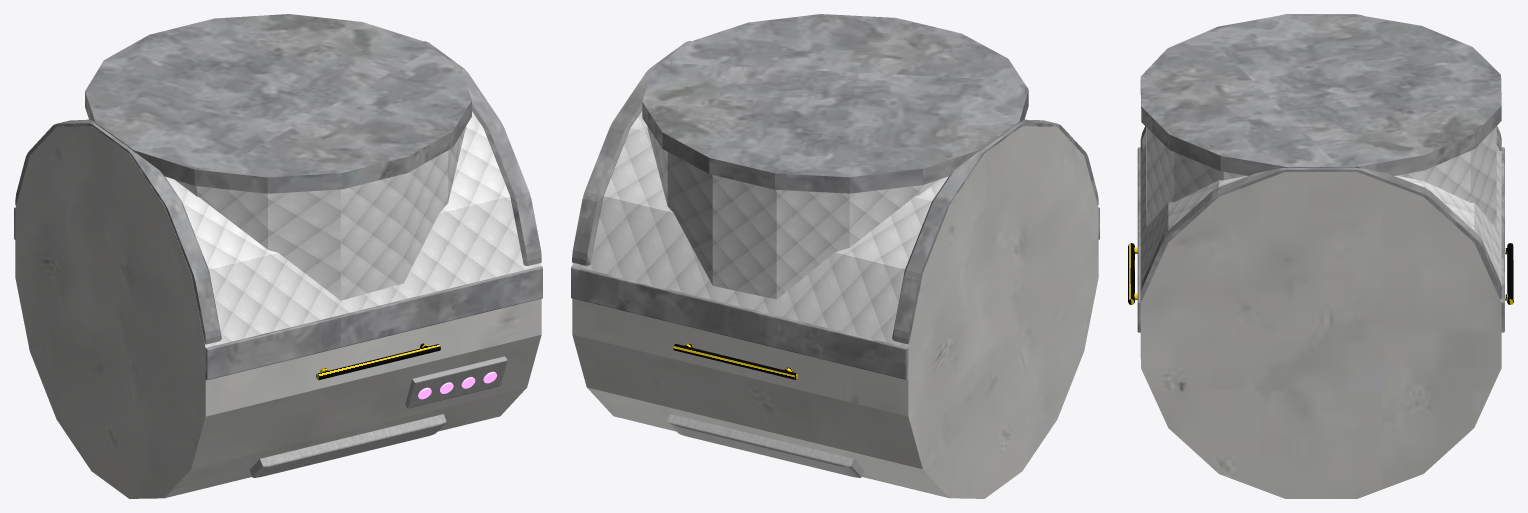
Rendered from Module-3-Centre-1.glb.
3 views of the same model, side by side, from view 1: azimuth 30°, elevation 25°; view 2: azimuth 150°, elevation 25°; view 3: azimuth 270°, elevation 25° (orthographic). The views are drawn at different scales.
Parts seen in each view (by area): view 1: Hull, Hull.002, Top, Hull.001, Hull Bars, Cylinder.001, Cube.003, Cube.002, Bar; view 2: Hull, Hull.002, Top, Hull.001, Hull Bars, Cylinder.001, Cube.003, Bar.001; view 3: Hull, Hull.002, Hull.001, Top, Cylinder.001, Hull Bars, Bar, Bar.001.
Boxes of the visible parts, bbox=[...] form: Hull: bbox=[15, 126, 541, 498]; Hull.002: bbox=[85, 14, 471, 193]; Top: bbox=[63, 111, 541, 347]; Hull.001: bbox=[175, 126, 466, 300]; Hull Bars: bbox=[14, 207, 542, 380]; Cylinder.001: bbox=[15, 41, 541, 344]; Cube.003: bbox=[249, 414, 446, 477]; Cube.002: bbox=[405, 356, 507, 408]; Bar: bbox=[316, 343, 440, 380]; Hull: bbox=[572, 126, 1098, 498]; Hull.002: bbox=[642, 14, 1028, 193]; Top: bbox=[572, 111, 1054, 347]; Hull.001: bbox=[647, 127, 939, 299]; Hull Bars: bbox=[571, 207, 1099, 379]; Cylinder.001: bbox=[572, 41, 1098, 344]; Cube.003: bbox=[667, 414, 864, 477]; Bar.001: bbox=[673, 343, 797, 379]; Hull: bbox=[1140, 172, 1501, 498]; Hull.002: bbox=[1140, 14, 1501, 175]; Hull.001: bbox=[1146, 126, 1496, 227]; Top: bbox=[1140, 144, 1501, 302]; Cylinder.001: bbox=[1140, 14, 1501, 299]; Hull Bars: bbox=[1137, 147, 1504, 332]; Bar: bbox=[1128, 243, 1137, 304]; Bar.001: bbox=[1505, 243, 1513, 304].
Bounding box in the file's own units: 12 × 11.89 × 12.58.
Materials: 6 (5 with a texture image).
